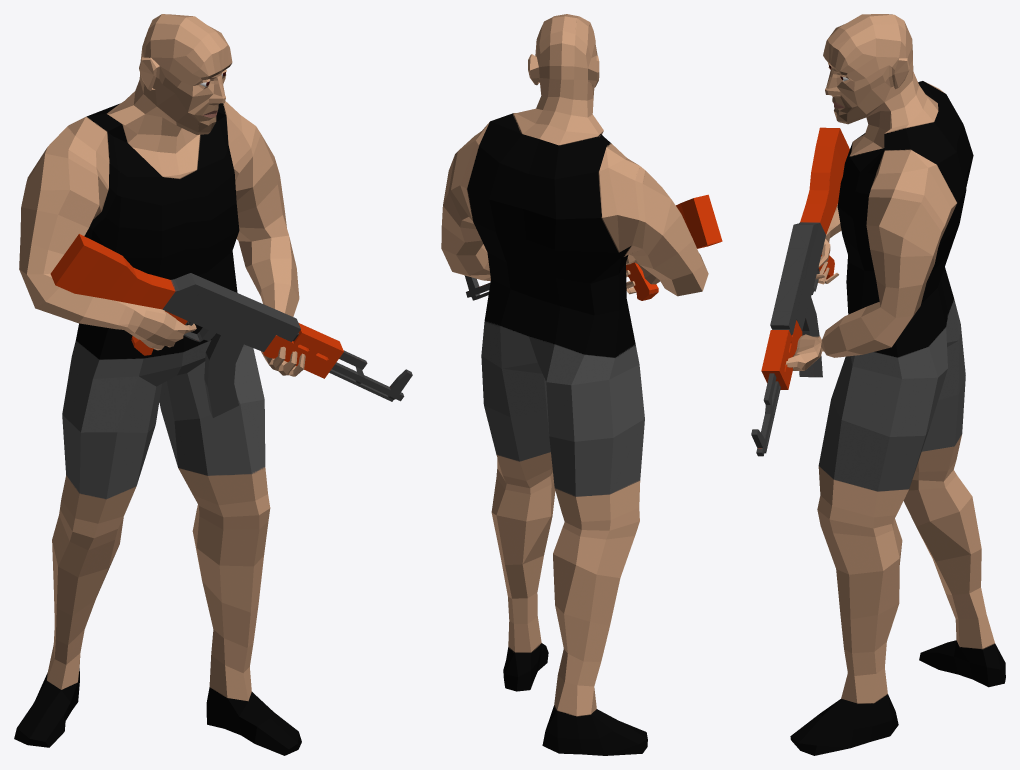
The model's file is PlayerIdle(112).obj.
The picture shows the model from 3 angles, left to right: view 1: azimuth 30°, elevation 25°; view 2: azimuth 150°, elevation 25°; view 3: azimuth 270°, elevation 25°; orthographic projection. The views are drawn at different scales.
Parts seen in each view (by area): view 1: Plane002, Object001; view 2: Plane002, Object001; view 3: Plane002, Object001.
Part boxes in pixels (left/top/right/bottom): Plane002: left=14, top=14, right=305, bottom=755; Object001: left=50, top=234, right=412, bottom=417; Plane002: left=441, top=14, right=708, bottom=755; Object001: left=464, top=194, right=722, bottom=300; Plane002: left=785, top=14, right=1005, bottom=755; Object001: left=751, top=127, right=849, bottom=456.
Bounding box in the file's own units: 836 × 1803 × 596.
